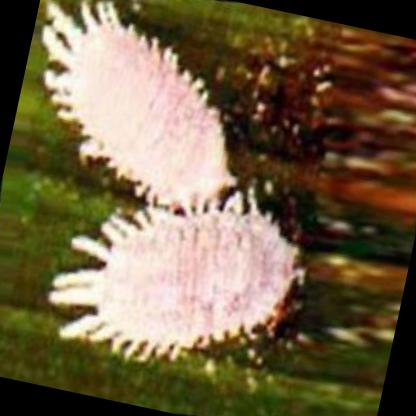mealy bug: (51, 199, 295, 365), (40, 6, 229, 203)
